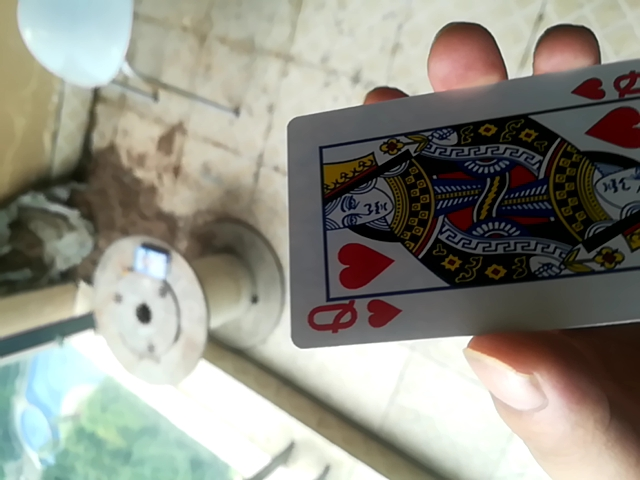hx q: (285, 52, 639, 356)
